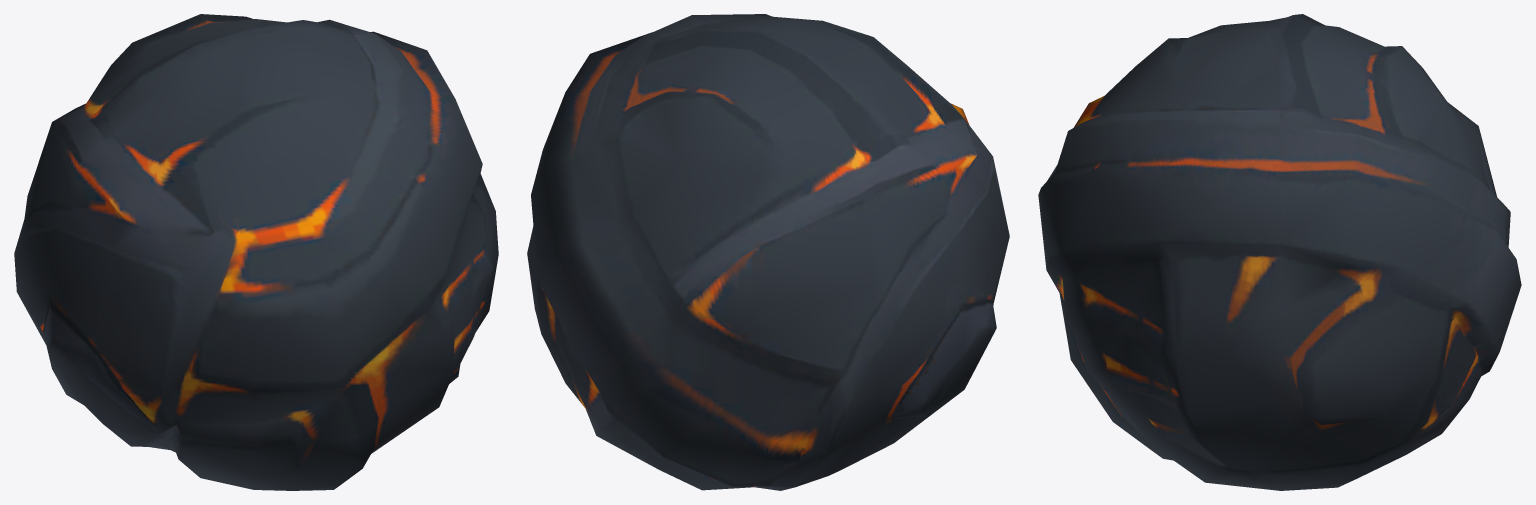
The model's file is BFGBullet.fbx.
3 views of the same model, side by side, from view 1: azimuth 30°, elevation 25°; view 2: azimuth 150°, elevation 25°; view 3: azimuth 270°, elevation 25° (orthographic).
Parts seen in each view (by area): view 1: prop_BFGammo_301; view 2: prop_BFGammo_301; view 3: prop_BFGammo_301.
Boxes of the visible parts, <box> form: prop_BFGammo_301: <box>14,14,498,490</box>; prop_BFGammo_301: <box>527,14,1009,490</box>; prop_BFGammo_301: <box>1038,14,1521,490</box>.
Size of the model in its own units: 0.5386 by 0.5332 by 0.5393.
1 material, 1 textured.
